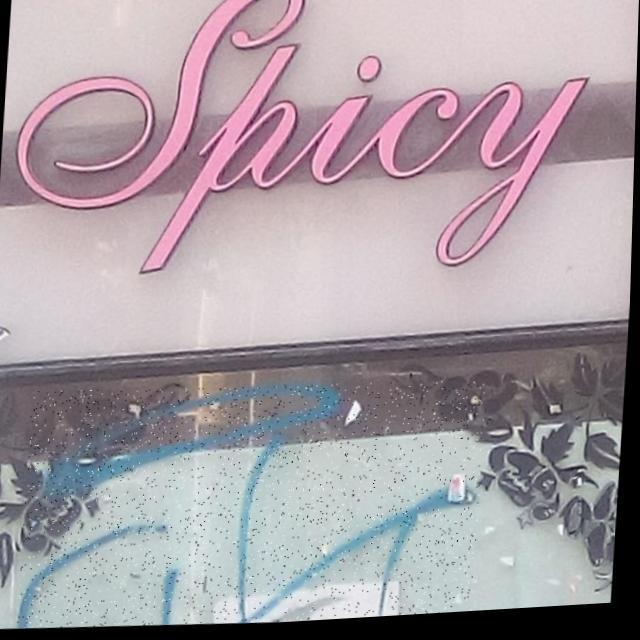-: (20, 370, 489, 638)
